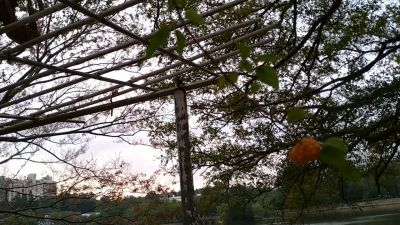eggs: (289, 136, 322, 166)
